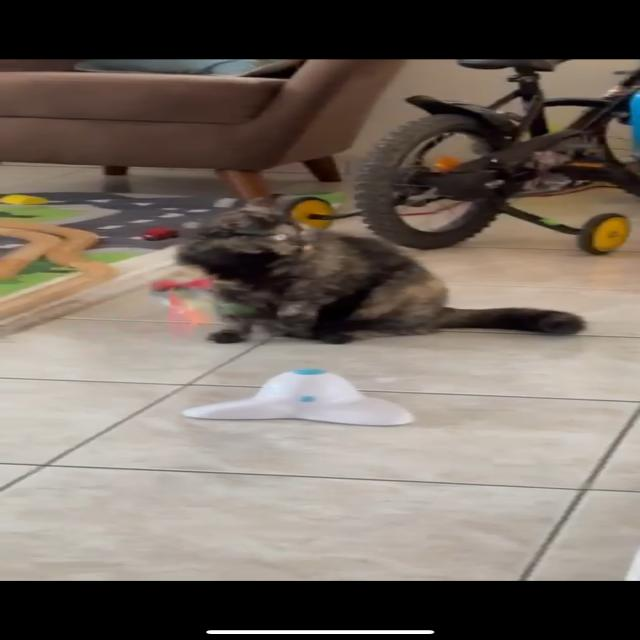authorized: (172, 205, 586, 345)
